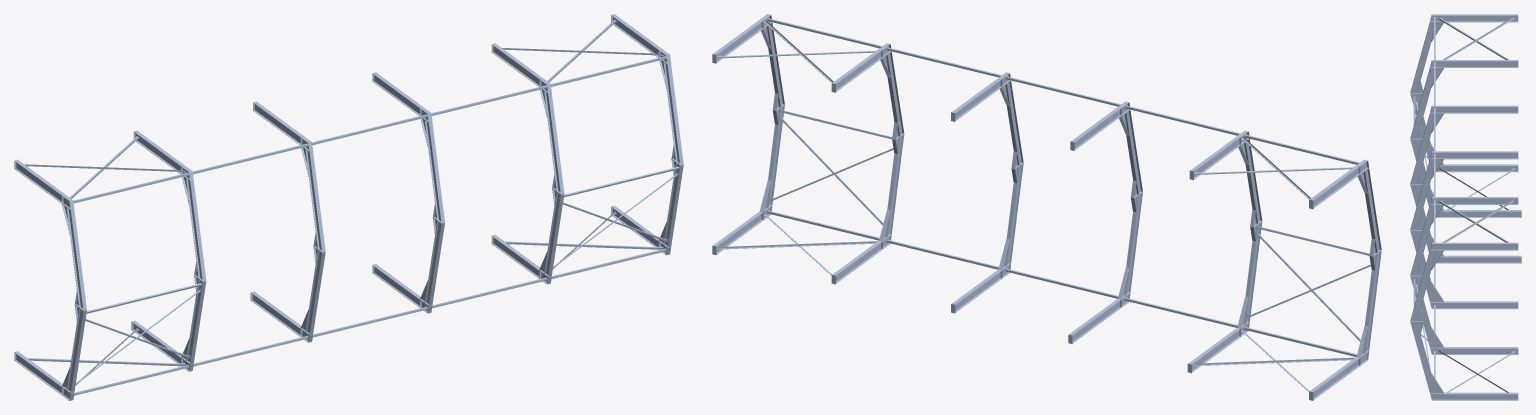
3 views of the same model, side by side, from view 1: azimuth 30°, elevation 25°; view 2: azimuth 150°, elevation 25°; view 3: azimuth 270°, elevation 25° (orthographic). The views are drawn at different scales.
Parts seen in each view (by area): view 1: 5 101676 IPE300 LIGGER, 4 100102 IPE300 LIGGER, 4 100438 IPE300 LIGGER, 4 100186 IPE300 LIGGER, 4 100354 IPE300 LIGGER, 4 100270 IPE300 LIGGER, 4 100215 IPE300 LIGGER, 5 100383 IPE300 LIGGER, 5 100047 IPE300 LIGGER, 4 100299 IPE300 LIGGER, 6 100467 IPE300 LIGGER, 1 100017 IPE330 KOLOM (+11 smaller); view 2: 5 100383 IPE300 LIGGER, 4 100299 IPE300 LIGGER, 5 100047 IPE300 LIGGER, 4 100215 IPE300 LIGGER, 6 100467 IPE300 LIGGER, 1 100017 IPE330 KOLOM, 6 100131 IPE300 LIGGER, 3 100185 IPE330 KOLOM, 13 100214 IPE330 KOLOM, 3 100269 IPE330 KOLOM, 1 100353 IPE330 KOLOM, 2 100046 IPE330 KOLOM (+12 smaller); view 3: 2 100437 IPE330 KOLOM, 3 100185 IPE330 KOLOM, 3 100269 IPE330 KOLOM, 1 100466 IPE330 KOLOM, 3 100298 IPE330 KOLOM, 13 100214 IPE330 KOLOM, 1 100017 IPE330 KOLOM, 2 100046 IPE330 KOLOM, 2 100101 IPE330 KOLOM, 2 100382 IPE330 KOLOM, 1 100353 IPE330 KOLOM, 12 100130 IPE330 KOLOM (+19 smaller).
Boxes of the visible parts, x1=… form: 5 101676 IPE300 LIGGER: x1=66, y1=208, x2=86, y2=310; 4 100102 IPE300 LIGGER: x1=186, y1=179, x2=206, y2=281; 4 100438 IPE300 LIGGER: x1=663, y1=62, x2=683, y2=164; 4 100186 IPE300 LIGGER: x1=305, y1=149, x2=325, y2=252; 4 100354 IPE300 LIGGER: x1=544, y1=91, x2=564, y2=193; 4 100270 IPE300 LIGGER: x1=424, y1=120, x2=444, y2=223; 4 100215 IPE300 LIGGER: x1=305, y1=250, x2=325, y2=334; 5 100383 IPE300 LIGGER: x1=544, y1=192, x2=564, y2=276; 5 100047 IPE300 LIGGER: x1=66, y1=308, x2=86, y2=392; 4 100299 IPE300 LIGGER: x1=424, y1=221, x2=444, y2=305; 6 100467 IPE300 LIGGER: x1=663, y1=163, x2=683, y2=247; 1 100017 IPE330 KOLOM: x1=14, y1=160, x2=72, y2=209; 5 100383 IPE300 LIGGER: x1=886, y1=134, x2=904, y2=237; 4 100299 IPE300 LIGGER: x1=1005, y1=164, x2=1023, y2=266; 5 100047 IPE300 LIGGER: x1=1363, y1=251, x2=1381, y2=353; 4 100215 IPE300 LIGGER: x1=1124, y1=193, x2=1142, y2=295; 6 100467 IPE300 LIGGER: x1=766, y1=105, x2=784, y2=207; 1 100017 IPE330 KOLOM: x1=1310, y1=159, x2=1368, y2=208; 6 100131 IPE300 LIGGER: x1=1244, y1=222, x2=1262, y2=324; 3 100185 IPE330 KOLOM: x1=1071, y1=101, x2=1129, y2=149; 13 100214 IPE330 KOLOM: x1=1069, y1=293, x2=1129, y2=343; 3 100269 IPE330 KOLOM: x1=952, y1=72, x2=1010, y2=120; 1 100353 IPE330 KOLOM: x1=832, y1=43, x2=891, y2=91; 2 100046 IPE330 KOLOM: x1=1310, y1=352, x2=1367, y2=399; 2 100437 IPE330 KOLOM: x1=1430, y1=242, x2=1517, y2=250; 3 100185 IPE330 KOLOM: x1=1430, y1=105, x2=1517, y2=113; 3 100269 IPE330 KOLOM: x1=1430, y1=151, x2=1517, y2=159; 1 100466 IPE330 KOLOM: x1=1430, y1=392, x2=1517, y2=400; 3 100298 IPE330 KOLOM: x1=1430, y1=301, x2=1517, y2=309; 13 100214 IPE330 KOLOM: x1=1436, y1=255, x2=1521, y2=263; 1 100017 IPE330 KOLOM: x1=1430, y1=14, x2=1517, y2=22; 2 100046 IPE330 KOLOM: x1=1436, y1=164, x2=1517, y2=172; 2 100101 IPE330 KOLOM: x1=1430, y1=60, x2=1517, y2=67; 2 100382 IPE330 KOLOM: x1=1430, y1=347, x2=1517, y2=354; 1 100353 IPE330 KOLOM: x1=1430, y1=197, x2=1517, y2=204; 12 100130 IPE330 KOLOM: x1=1436, y1=210, x2=1521, y2=217.
Size of the model in its own units: 25180 by 8020 by 5146.
